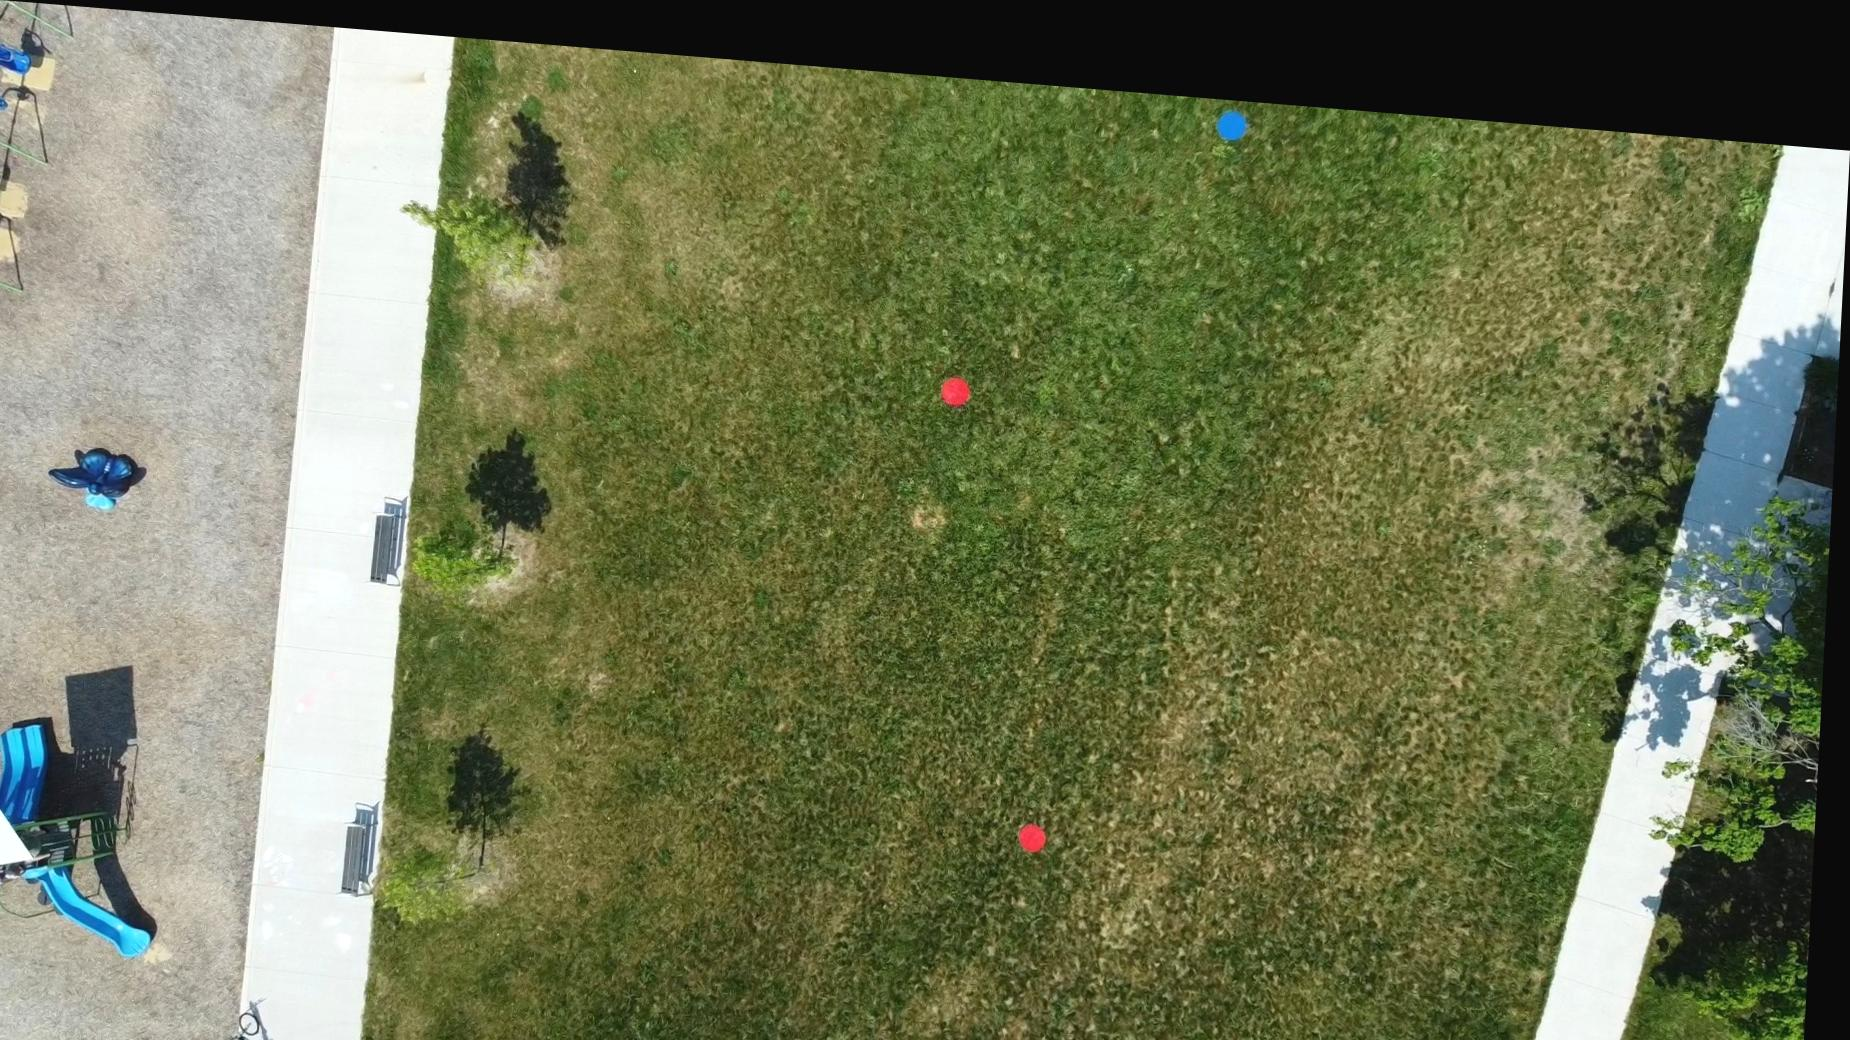Blue: (1215, 88, 1249, 121)
Red: (943, 358, 976, 392), (1025, 803, 1057, 837)
